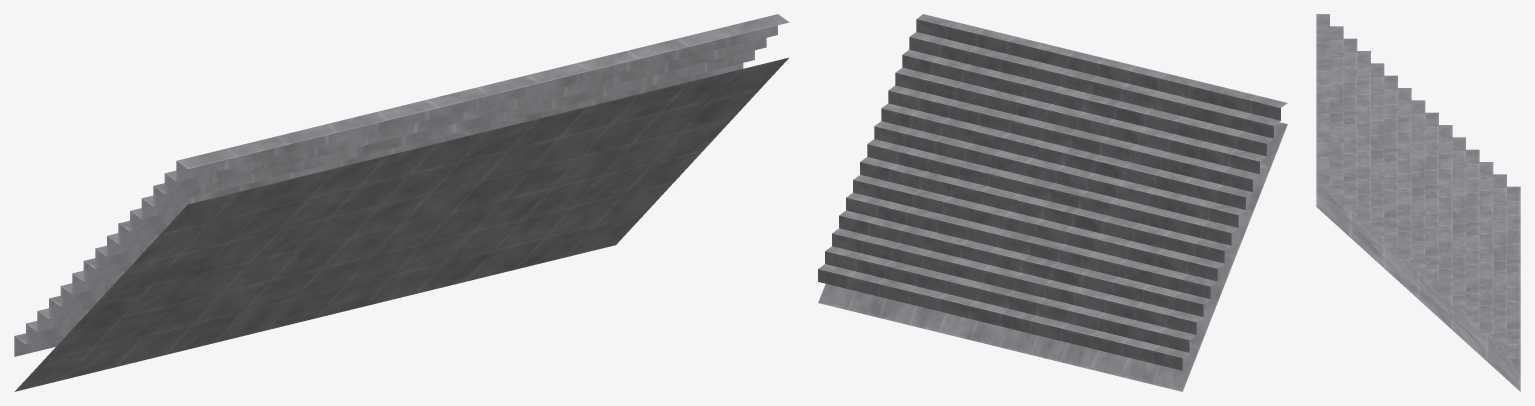
Rendered from Stair_3H_D.fbx.
The picture shows the model from 3 angles, left to right: view 1: azimuth 30°, elevation 25°; view 2: azimuth 150°, elevation 25°; view 3: azimuth 270°, elevation 25°; orthographic projection. The views are drawn at different scales.
Parts seen in each view (by area): view 1: Stair_3H_D; view 2: Stair_3H_D; view 3: Stair_3H_D.
Boxes of the visible parts, x1,y1,x2,y2 form: Stair_3H_D: (14,14,789,391); Stair_3H_D: (818,14,1287,391); Stair_3H_D: (1316,14,1520,391).
Bounding box in the file's own units: 6 × 3 × 3.33.
